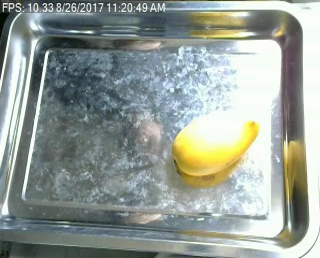Mango: (172, 112, 256, 176)
